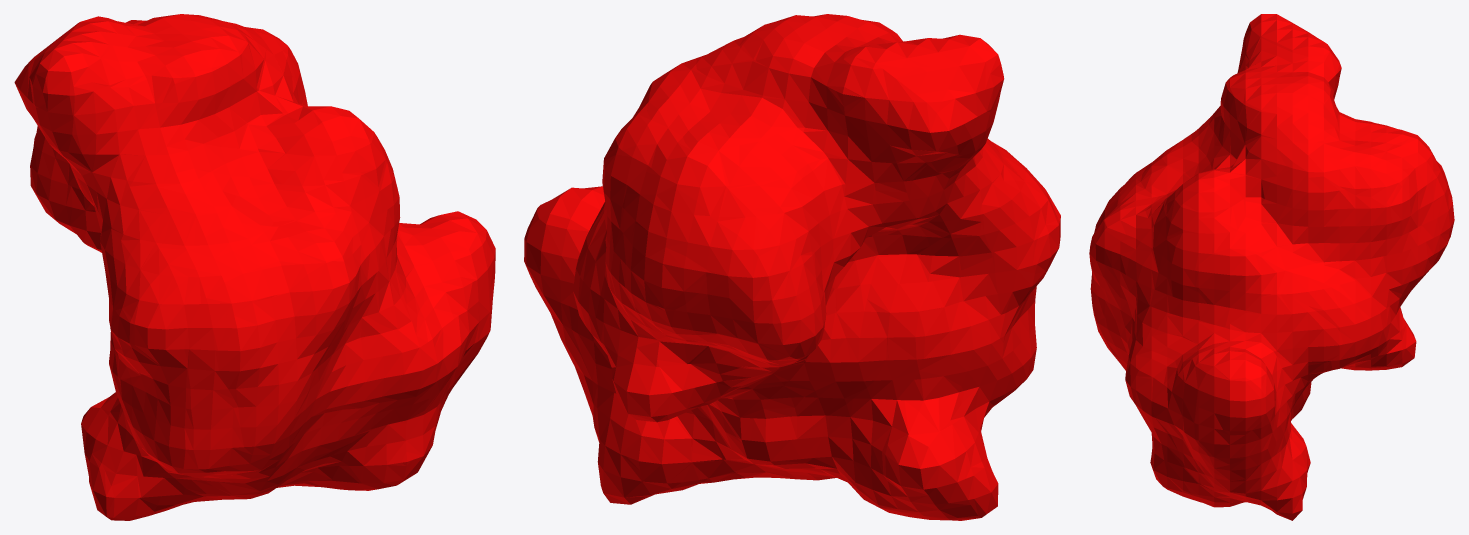
Rendered from fepC_coarse.dae.
3 views of the same model, side by side, from view 1: azimuth 30°, elevation 25°; view 2: azimuth 150°, elevation 25°; view 3: azimuth 270°, elevation 25° (orthographic). The views are drawn at different scales.
Parts seen in each view (by area): view 1: fepC; view 2: fepC; view 3: fepC.
Part boxes in pixels (<box>): fepC: <box>14,14,495,520</box>; fepC: <box>524,14,1060,520</box>; fepC: <box>1089,14,1454,520</box>.
Size of the model in its own units: 55.52 by 58.23 by 49.96.
